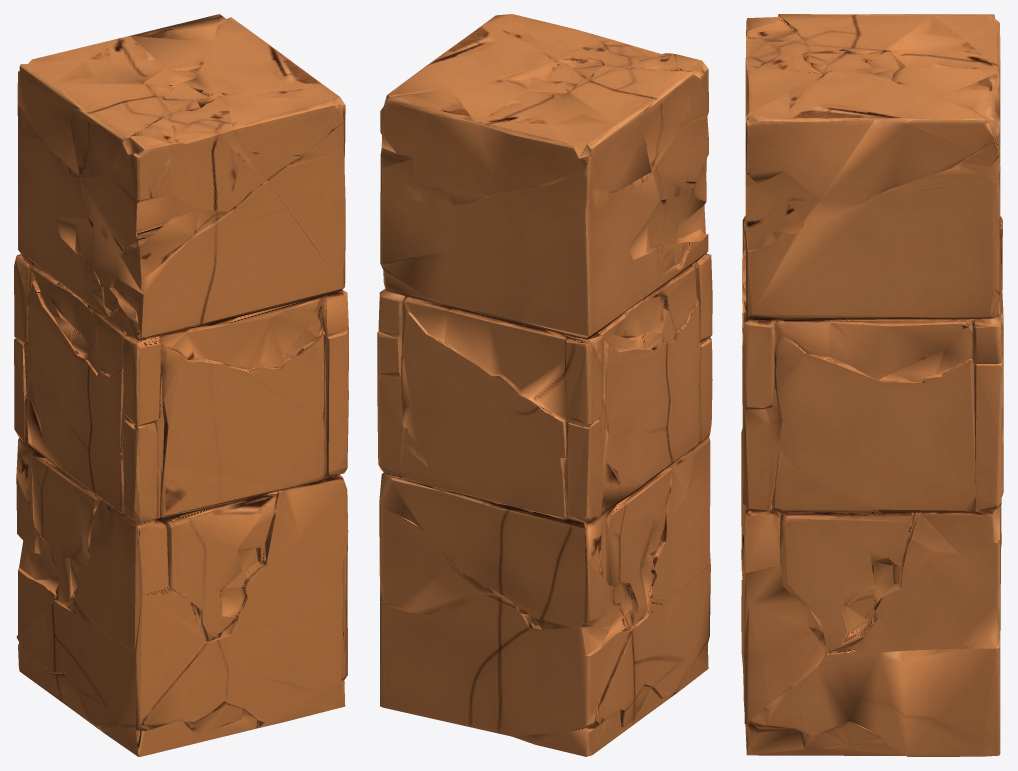
Rendered from cover_full_ruins_v1.glb.
3 renders of one model, left to right at view 1: azimuth 30°, elevation 25°; view 2: azimuth 150°, elevation 25°; view 3: azimuth 270°, elevation 25°, orthographic. The views are drawn at different scales.
Bounding box in the file's own units: 0.6919 × 1.85 × 0.6913.
Materials: 1 (1 with a texture image).
